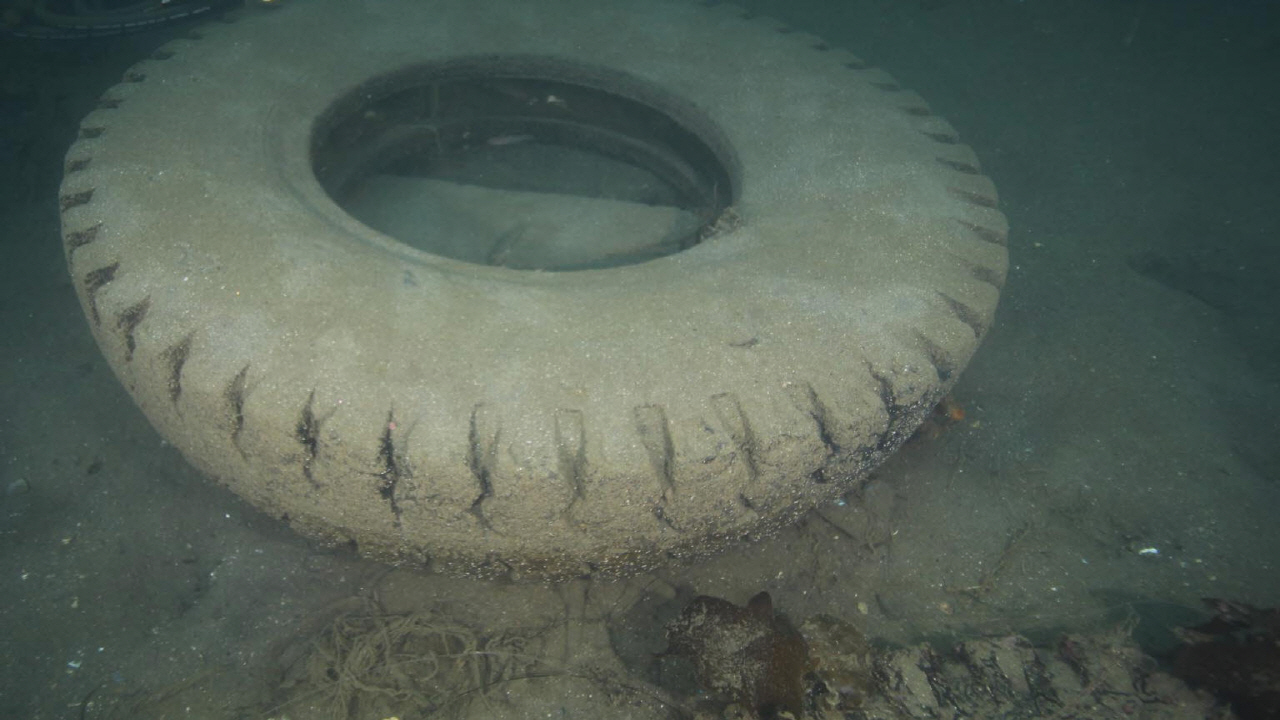tire: (59, 0, 1010, 580)
